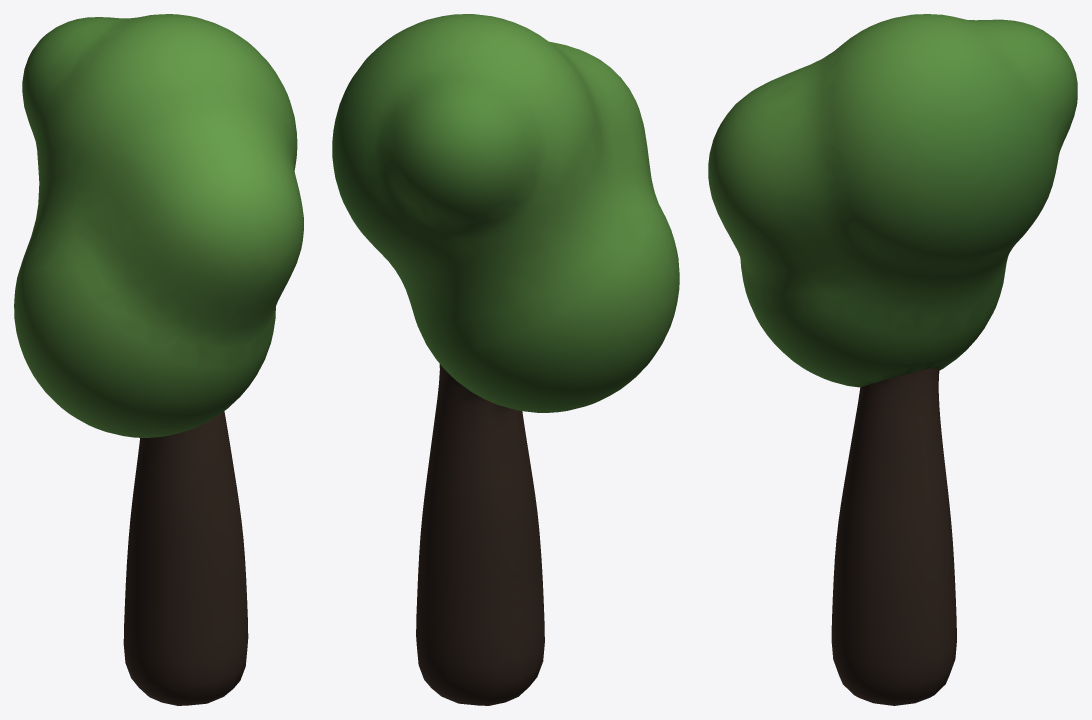
The model's file is tree_10_1.glb.
3 renders of one model, left to right at view 1: azimuth 30°, elevation 25°; view 2: azimuth 150°, elevation 25°; view 3: azimuth 270°, elevation 25°, orthographic. The views are drawn at different scales.
Parts seen in each view (by area): view 1: canopy, bark; view 2: canopy, bark; view 3: canopy, bark.
Part boxes in pixels (x1,y1,x2,y2): canopy: [14, 14, 303, 437]; bark: [123, 411, 248, 705]; canopy: [332, 14, 679, 412]; bark: [416, 364, 544, 705]; canopy: [708, 14, 1077, 387]; bark: [831, 368, 956, 705].
Bounding box in the file's own units: 0.4717 × 1.08 × 0.5422.
